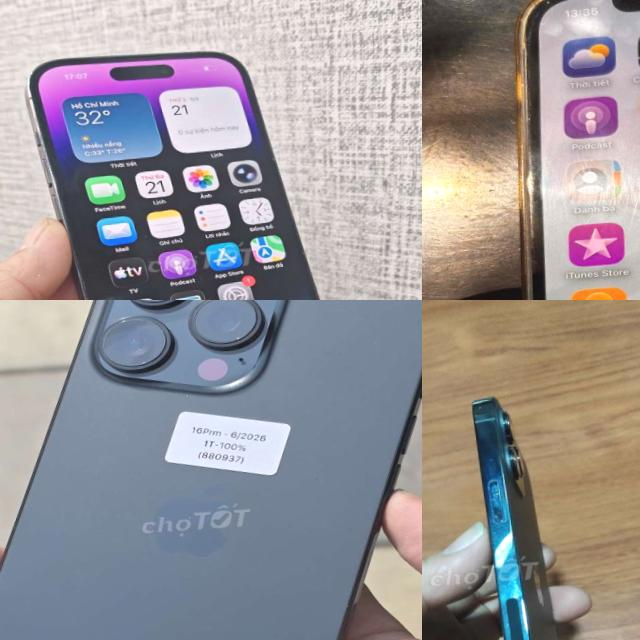gen_12_13: (469, 0, 640, 300), (444, 379, 590, 640)
gen_14: (25, 30, 353, 300)
gen_16: (0, 300, 422, 640)
